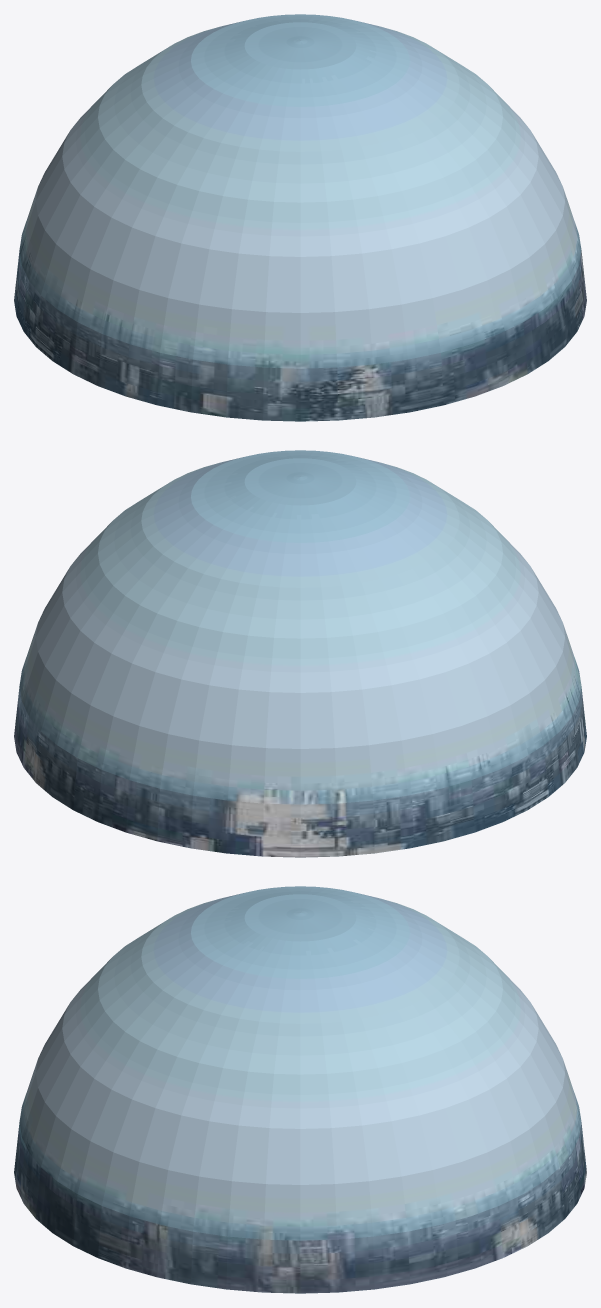
File: SkyDome1.fbx
The picture shows the model from 3 angles, top to bottom: view 1: azimuth 30°, elevation 25°; view 2: azimuth 150°, elevation 25°; view 3: azimuth 270°, elevation 25°; orthographic projection.
Parts seen in each view (by area): view 1: Component1; view 2: Component1; view 3: Component1.
Boxes of the visible parts, bbox=[...] form: Component1: bbox=[14, 14, 586, 421]; Component1: bbox=[14, 450, 586, 857]; Component1: bbox=[14, 886, 586, 1293].
Bounding box in the file's own units: 81920 × 40960 × 81920.
